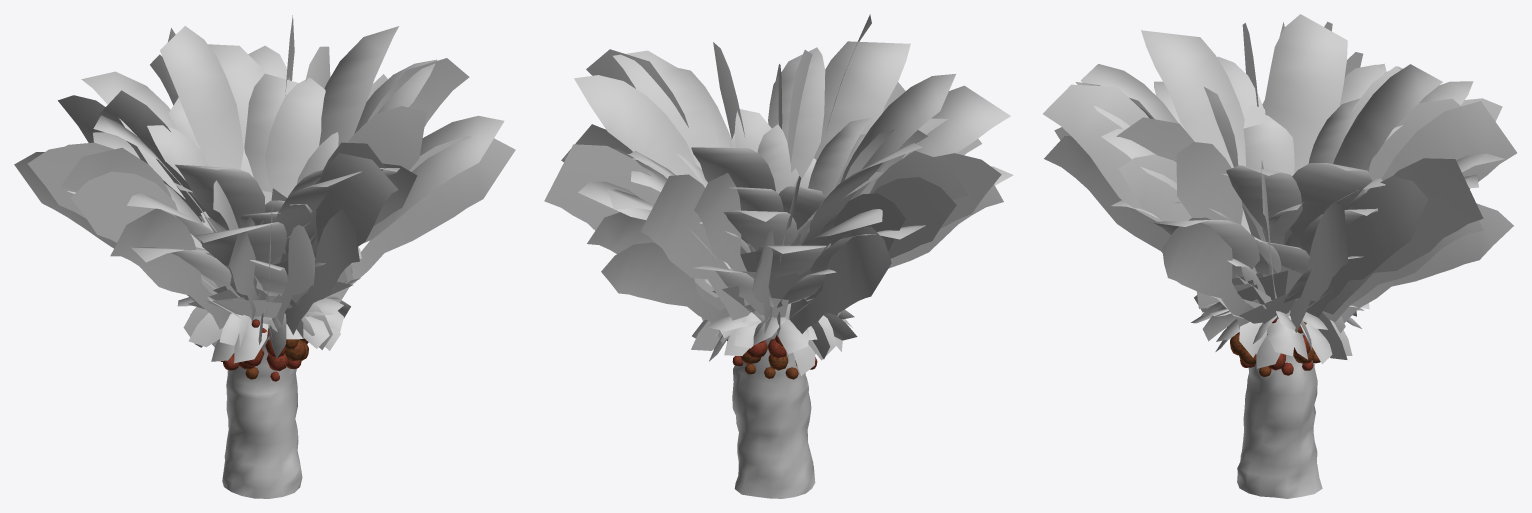
File: Tree6_3.fbx
3 views of the same model, side by side, from view 1: azimuth 30°, elevation 25°; view 2: azimuth 150°, elevation 25°; view 3: azimuth 270°, elevation 25° (orthographic). The views are drawn at different scales.
Visible parts, largest first — view 1: polySurface88; view 2: polySurface88; view 3: polySurface88.
Boxes of the visible parts, bbox=[...] form: polySurface88: bbox=[14, 15, 515, 498]; polySurface88: bbox=[544, 14, 1013, 498]; polySurface88: bbox=[1043, 14, 1516, 498].
Size of the model in its own units: 688 by 637 by 682.
